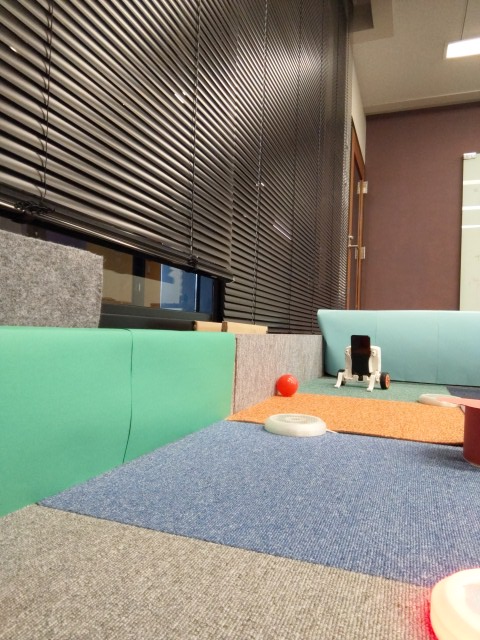f: (334, 332, 391, 394)
o: (263, 410, 331, 439), (413, 389, 463, 411)
r: (424, 564, 480, 640)
